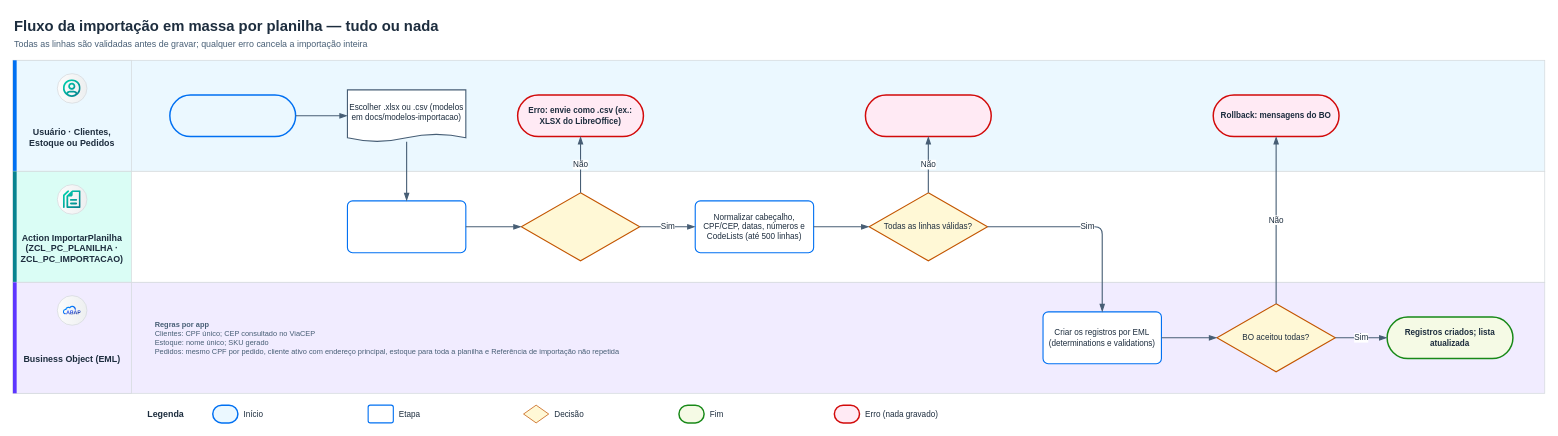
The diagram is 1558 pixels wide and 436 high, and some of its shapes have lost their labels. The centre of each missing label's shape, as x and y in pixels:
"Action estática com parâmetro deep (arquivo)" goes at (406,226).
"Arquivo legível?" goes at (580,226).
"Importar planilha (botão da lista)" goes at (232,115).
"Nada é gravado: lista até 15 erros por linha" goes at (928,115).
